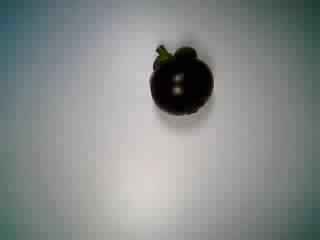mangosteen: (133, 41, 214, 121)
